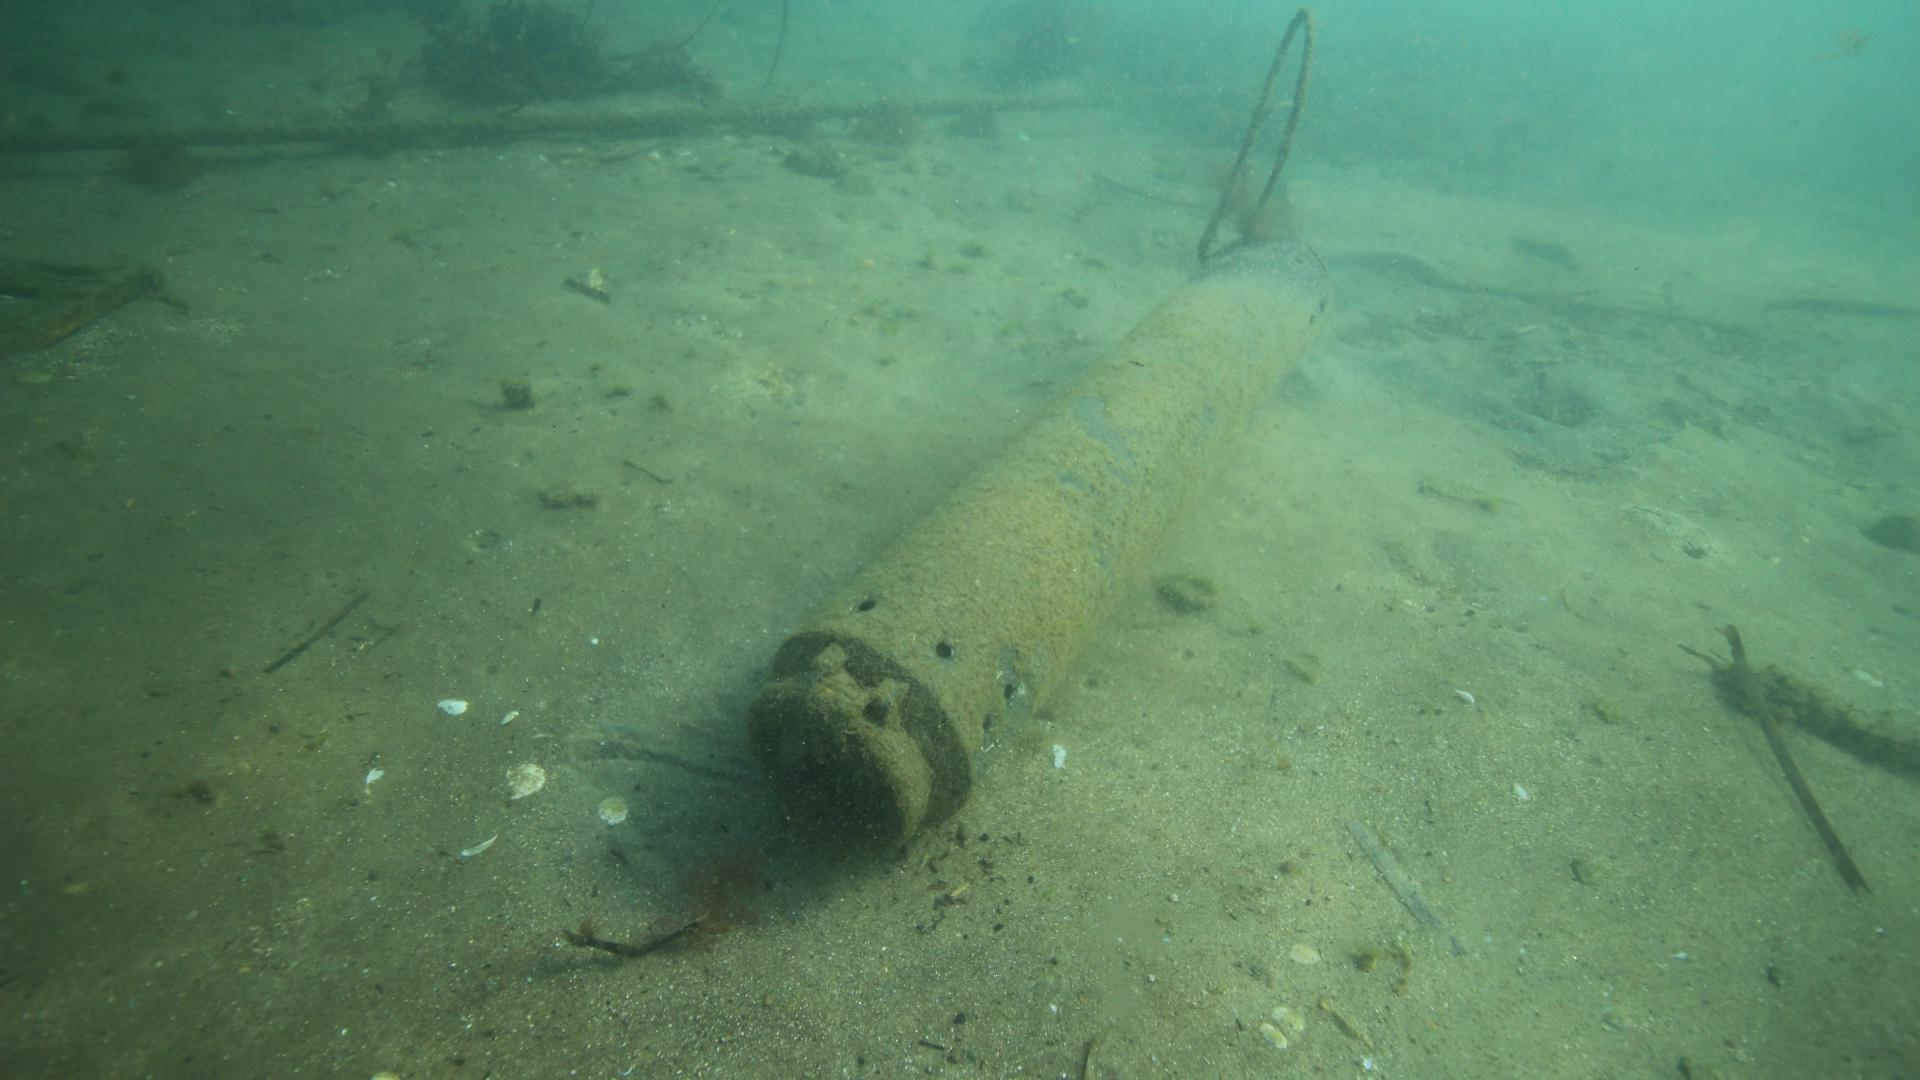eel fish trap: (750, 228, 1335, 851)
rope: (0, 79, 1106, 152), (1193, 5, 1313, 255)
